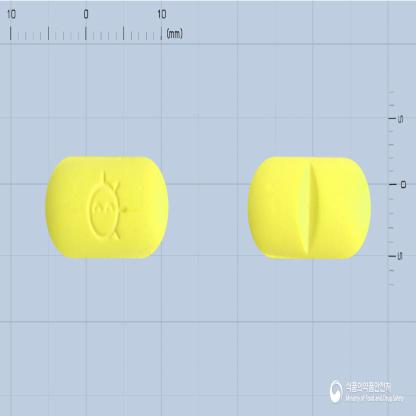pill: (245, 152, 372, 261), (44, 153, 171, 258)
